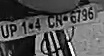1: (20, 19, 30, 36)
4: (32, 18, 43, 32)
6: (69, 10, 77, 24), (88, 6, 95, 21)
7: (76, 8, 81, 23)
9: (81, 8, 87, 22)
C: (47, 14, 57, 30)
N: (56, 14, 63, 27)
P: (9, 22, 18, 37)
U: (1, 24, 10, 41)
